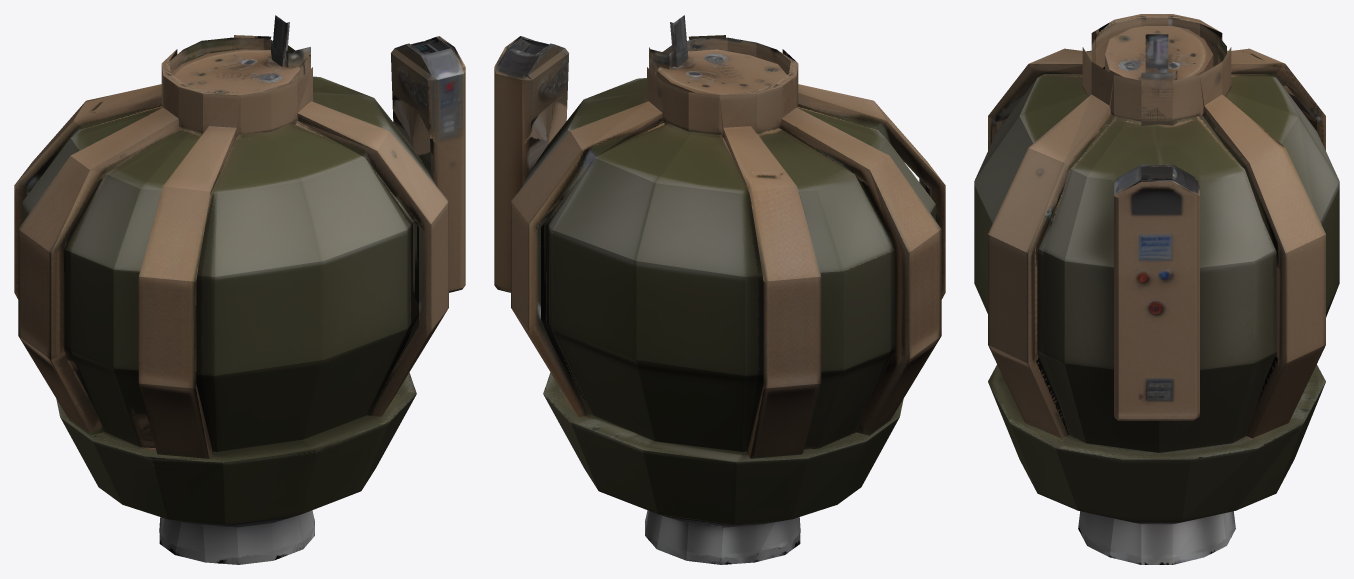
3 views of the same model, side by side, from view 1: azimuth 30°, elevation 25°; view 2: azimuth 150°, elevation 25°; view 3: azimuth 270°, elevation 25° (orthographic). The views are drawn at different scales.
Visible parts, largest first — view 1: textured.obj; view 2: textured.obj; view 3: textured.obj.
Boxes of the visible parts, x1,y1,x2,y2 form: textured.obj: (14, 15, 465, 564); textured.obj: (494, 15, 945, 564); textured.obj: (974, 14, 1339, 564).
Bounding box in the file's own units: 1.72 × 2 × 1.28.
1 material, 1 textured.
